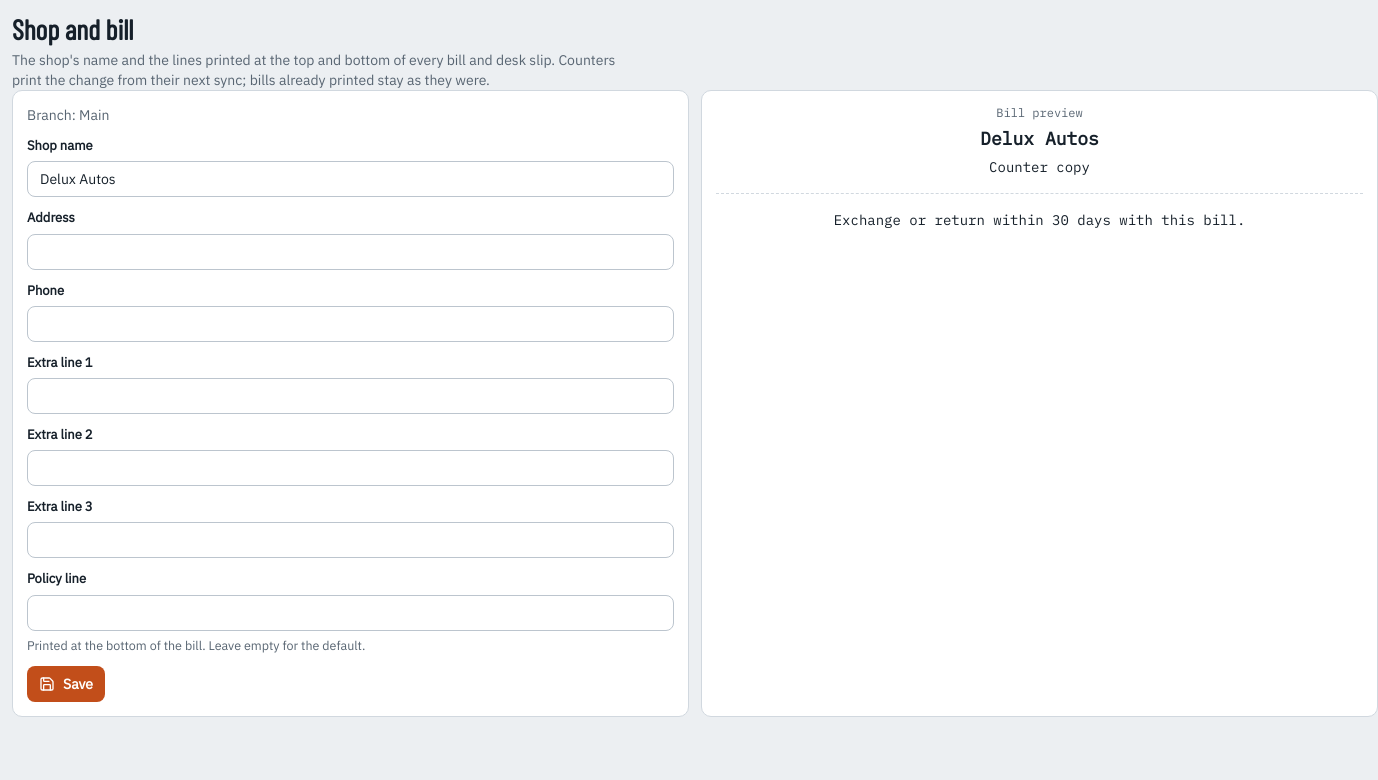
the shop and bill screen › shows a refusal and keeps what was typed
Replace the text in the field labelled "Shop name" with "Delux City Auto Corner" at (350, 179), box [27, 161, 674, 197]
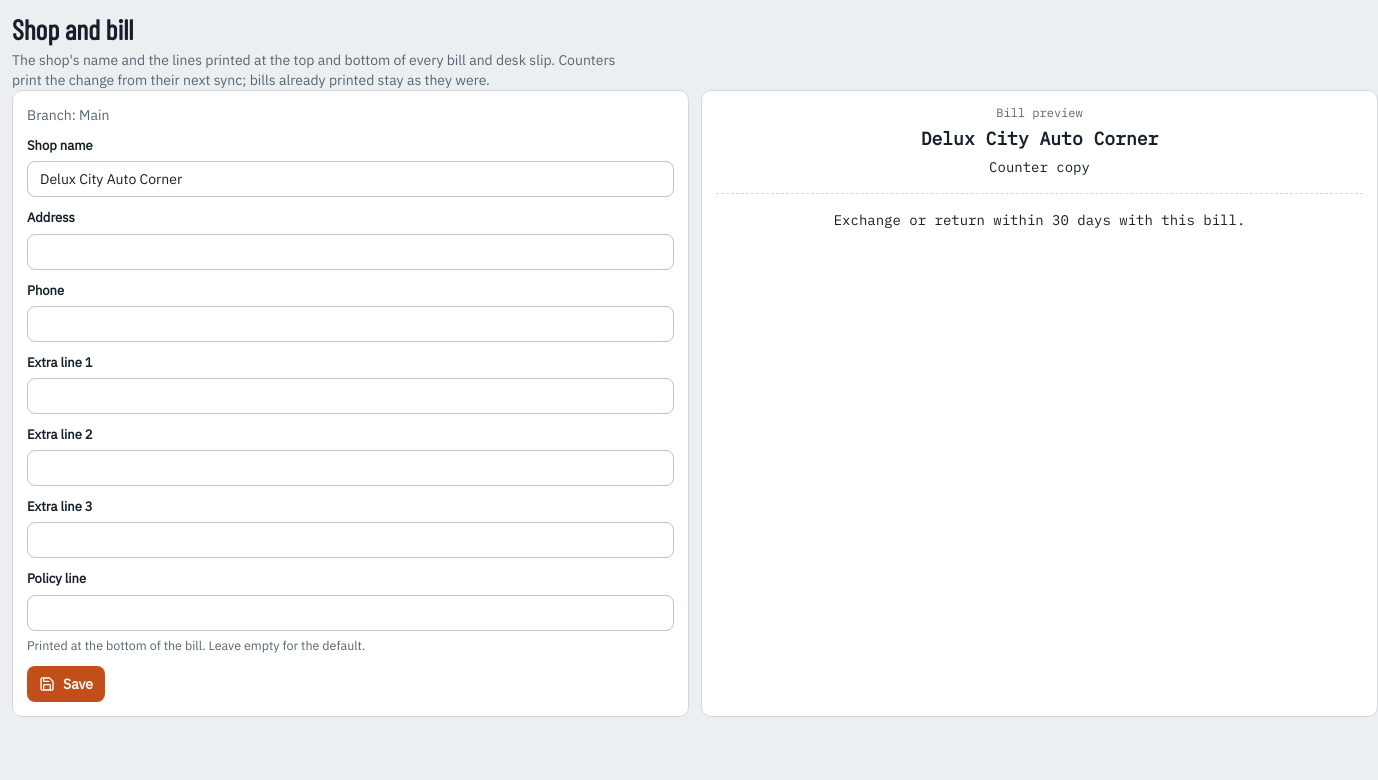
Click the button "Save" at (66, 684), box [27, 666, 105, 702]
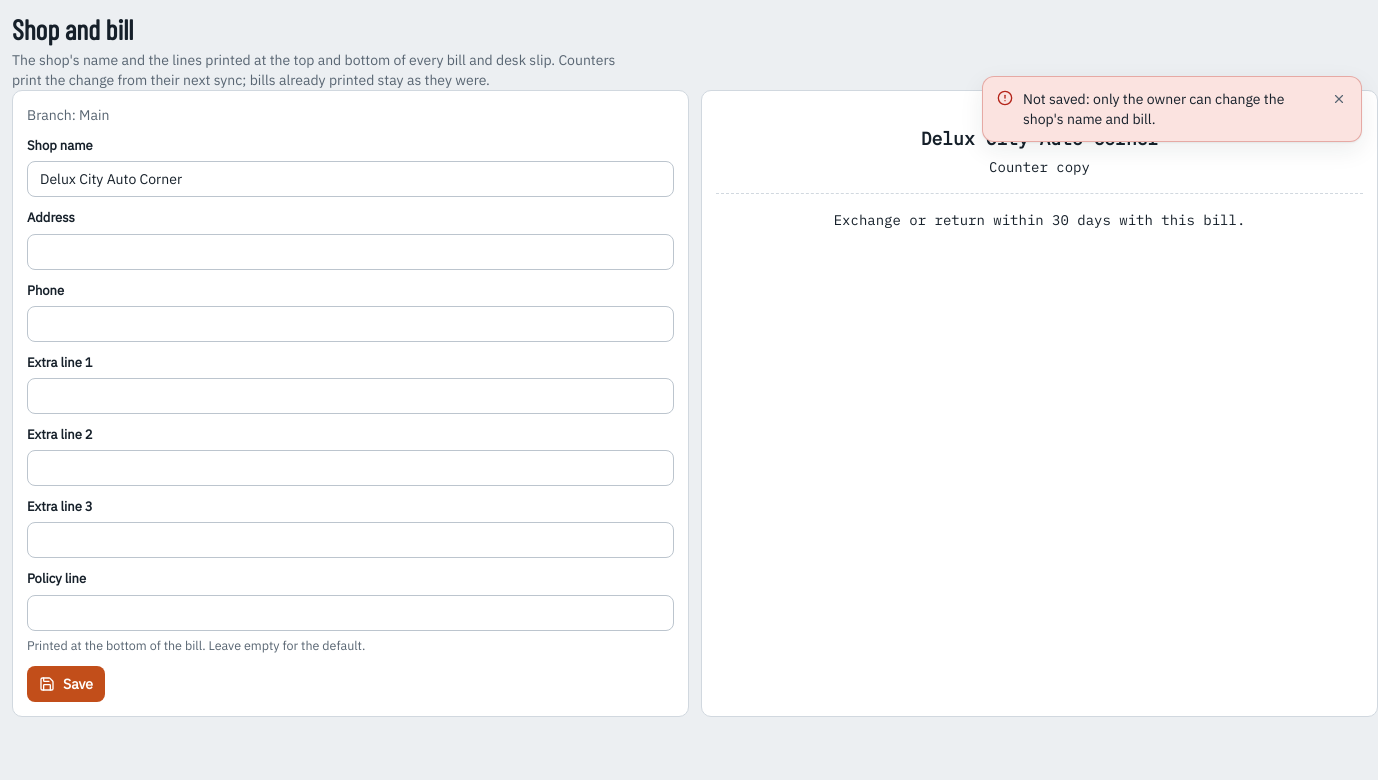
expect the heading "Delux City Auto Corner" is shown: met, box [921, 127, 1158, 150]
expect the message reads "Not saved: only the owner can change the shop's name and bill.": met, box [1023, 90, 1284, 128]
